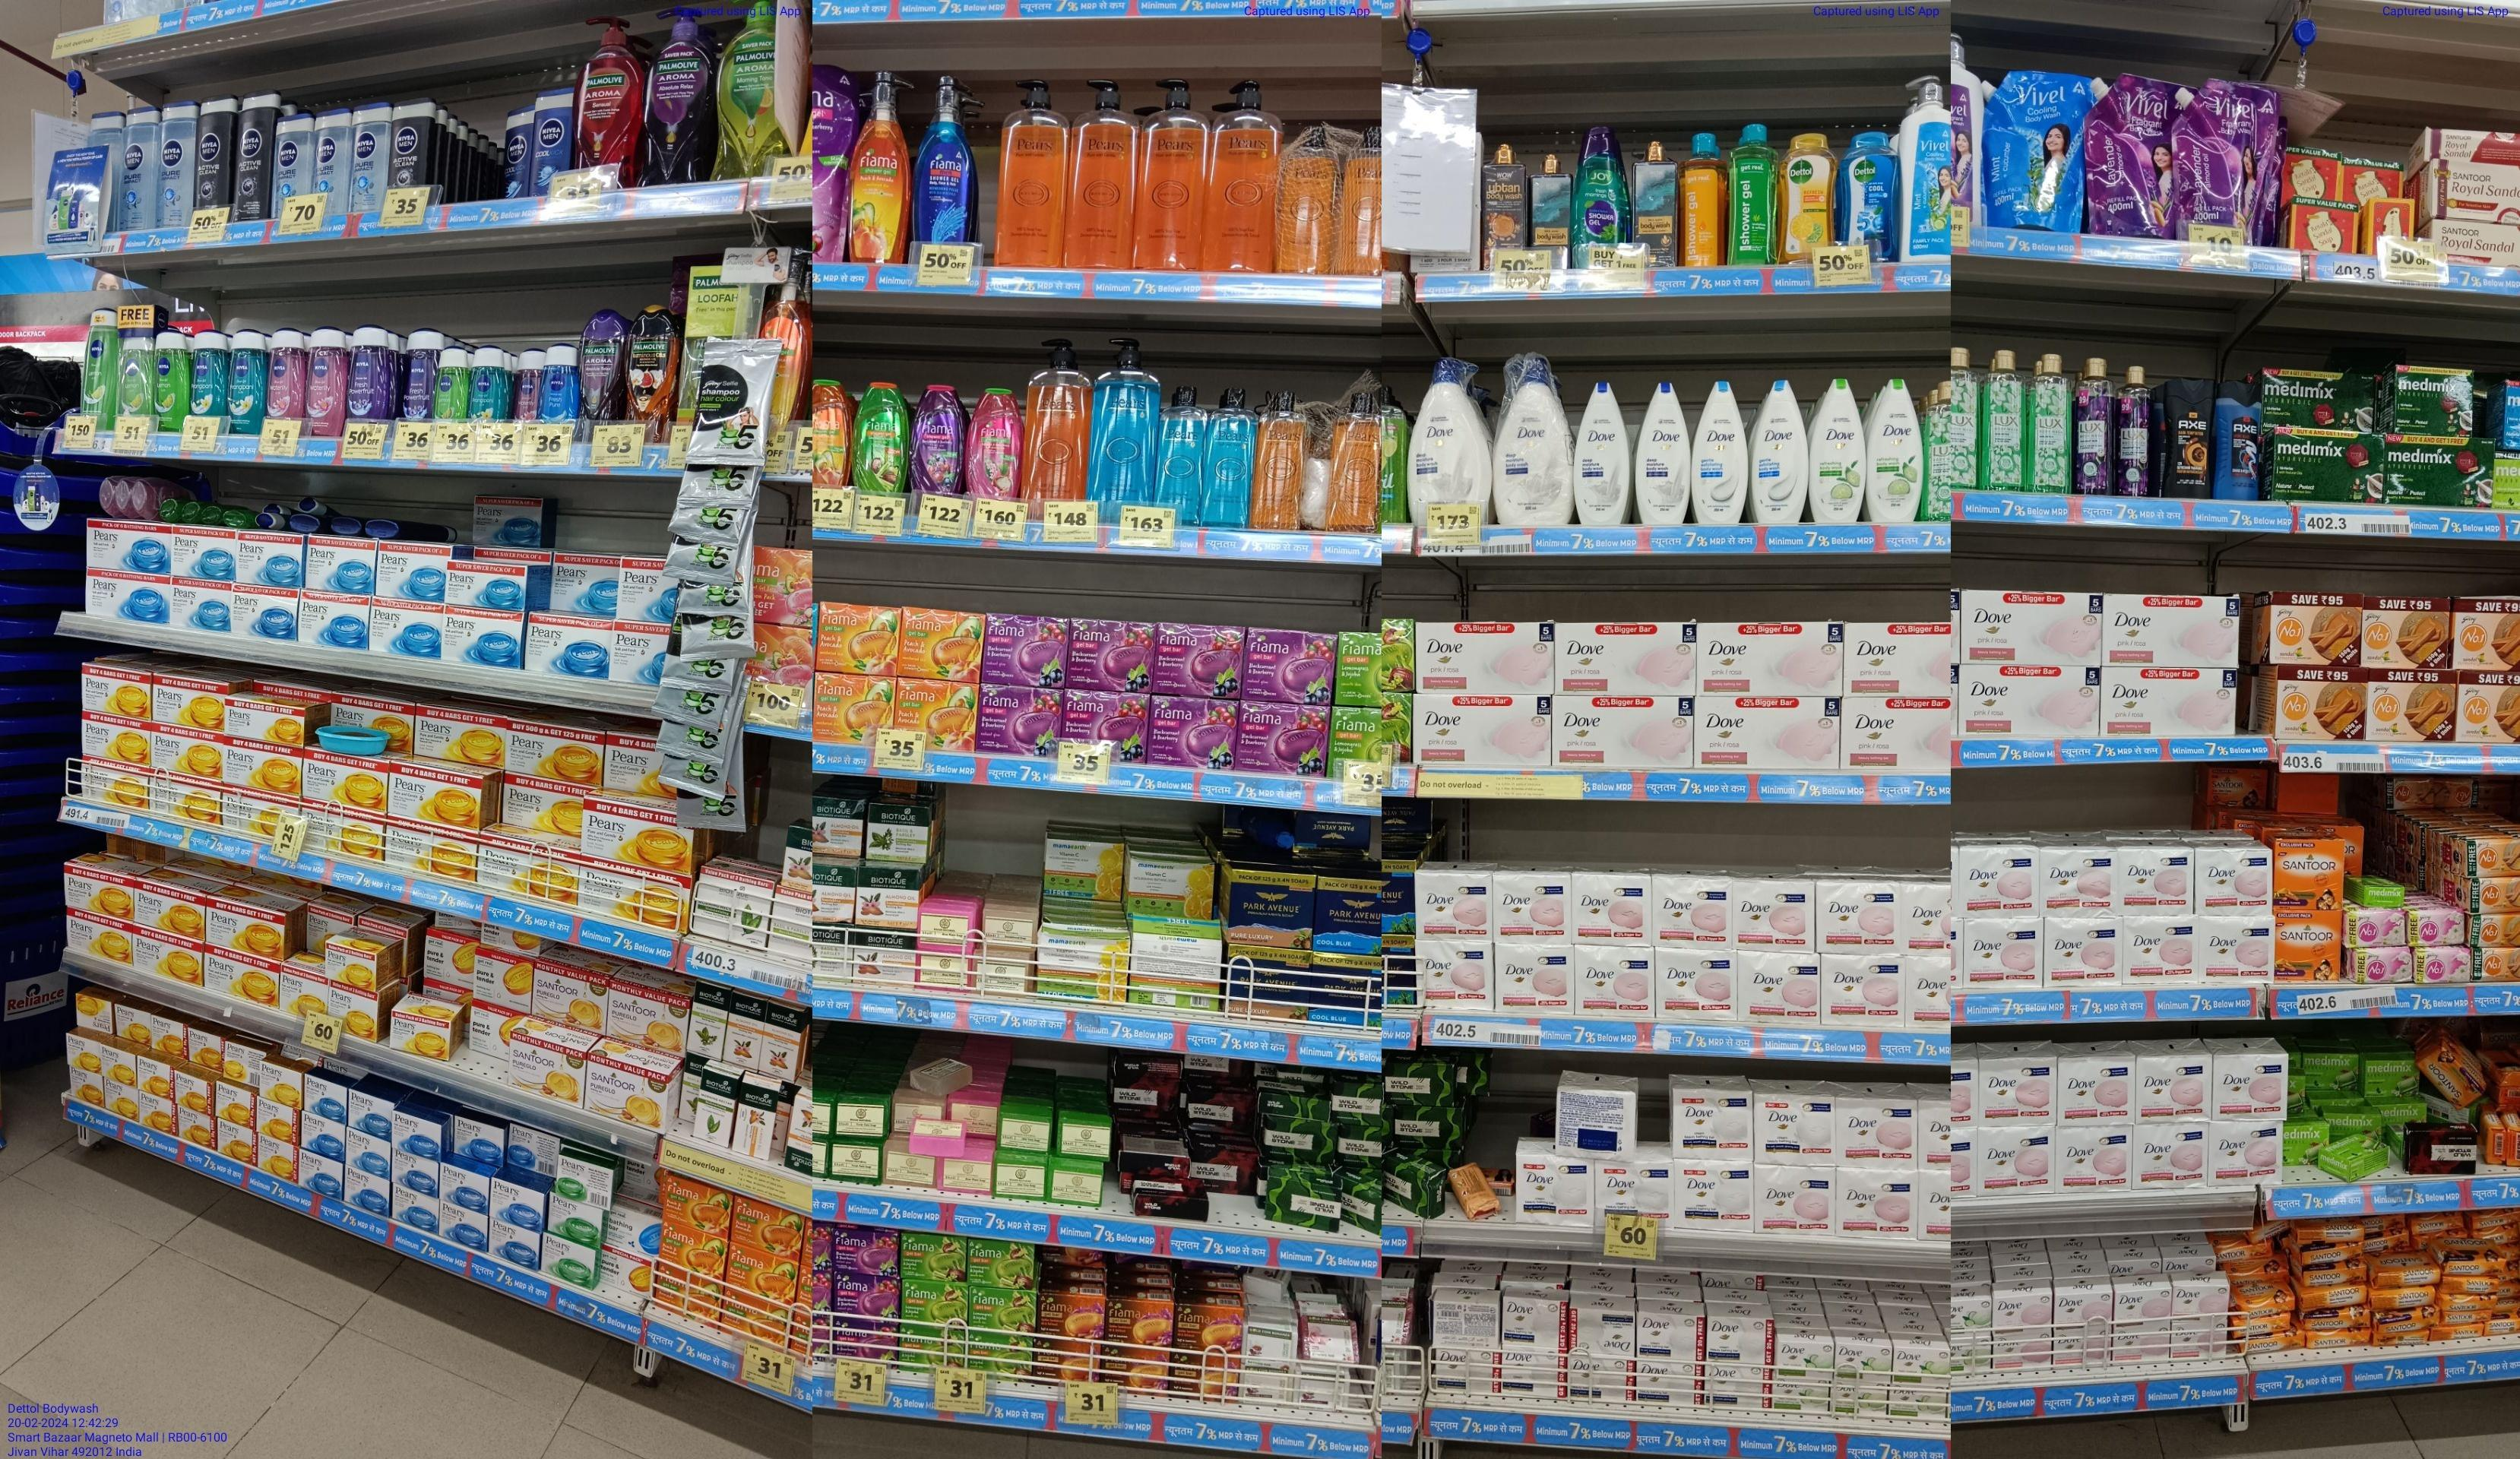Dettol_Bodywash_Cool: (1841, 130, 1900, 245)
Dettol_Bodywash_Refresh: (1780, 134, 1837, 248)
Dove_Deep_Moisture_Body_Wash_250ML: (1575, 379, 1631, 523), (1636, 380, 1688, 526)
Dove_Gentle_Exfoliating_Body_Wash_250ML: (1749, 377, 1804, 525), (1692, 379, 1747, 526)
Dove_Refreshing_Body_Wash_250ML: (1808, 377, 1864, 523), (1869, 379, 1924, 523)
Fiama_Shower_Gel_Lemongrass_and_Jojoba_250ML: (854, 377, 910, 490)
Fiama_Shower_Gel_Patchouli_and_Macadamia_250ML: (966, 387, 1023, 498)
Fiama_Shower_Gel_Peach_and_Avocado_250ML: (811, 377, 851, 485)
Joy_Shower_Gel_Mint_and_Eucalyptus_250ML: (1573, 123, 1631, 241)
Lux_Black_Orchid_Scent_and_Juniper_Oil_Body_Wash_245ML: (2114, 358, 2150, 497), (2075, 356, 2110, 493)
Lux_Body_Wash_Skin_Detox_Freesia_Scent_and_Alove_Vera_245ML: (2029, 349, 2072, 492), (1985, 351, 2027, 490), (1950, 344, 1982, 486)
Nivea_Shower_Gel_Frangipani_and_Oil_250ML: (229, 328, 264, 436), (193, 332, 228, 415)
Nivea_Shower_Gel_Fresh_Powerfruit_250ML: (347, 325, 393, 419), (403, 328, 432, 422)
Nivea_Shower_Gel_Lemon_and_Oil_250ML: (82, 307, 116, 408), (155, 335, 191, 415)
Nivea_Shower_Gel_Waterlily_and_Oil_250ML: (307, 327, 346, 432), (267, 327, 306, 419)
Palmolive_Aroma_Relax_250ML: (580, 309, 625, 419)
Palmolive_Luminous_Oils_With_White_Orchid_Shower_Gel_250ML: (627, 302, 679, 424)
Pears_Pure_Glycerin_and_Mint_Extracts_Body_Wash_250ML: (1204, 387, 1254, 528), (1162, 386, 1202, 512)
